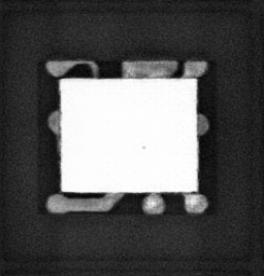DIE_INK: (139, 143, 148, 151)
